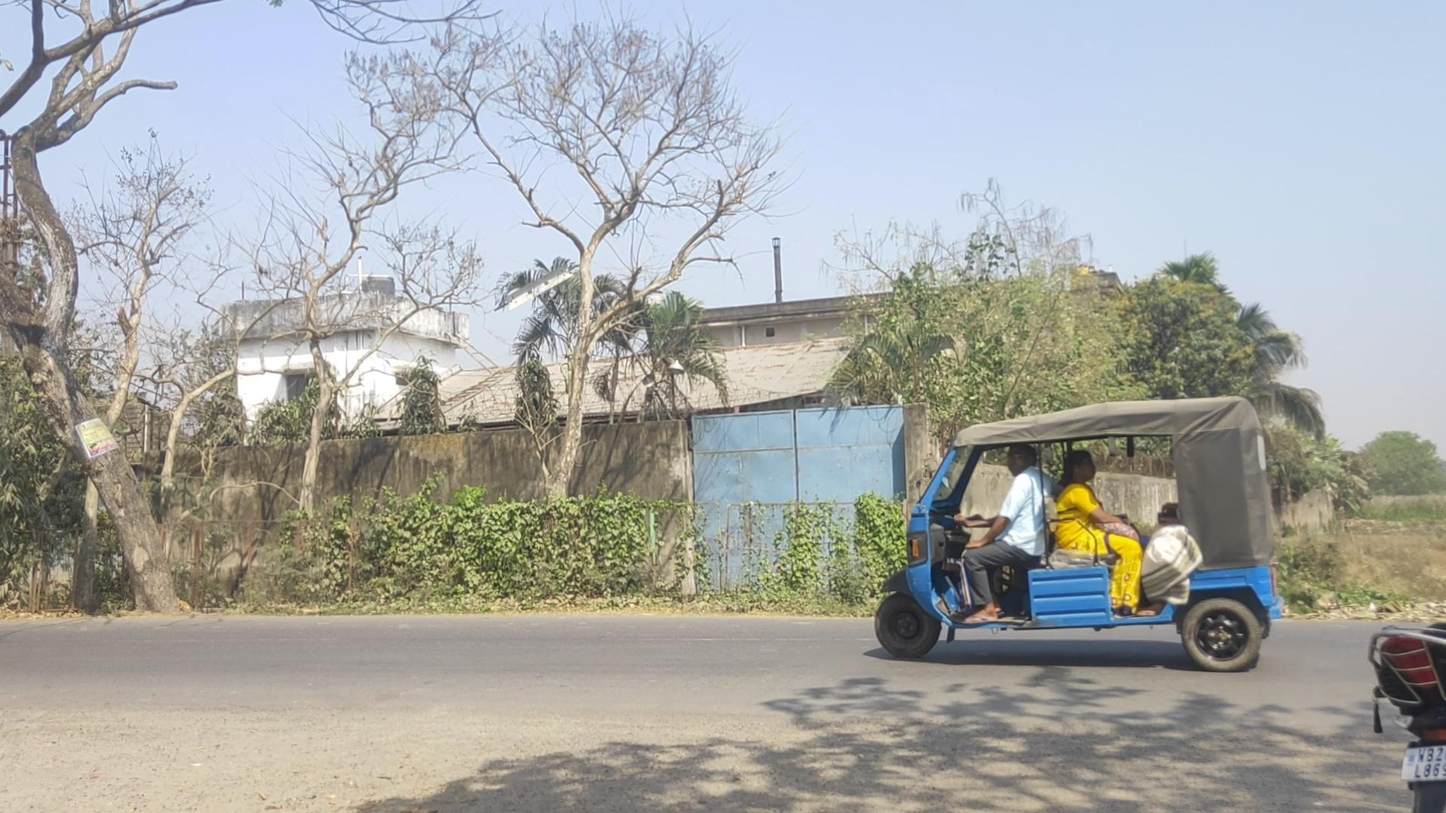Auto: (874, 396, 1283, 672)
